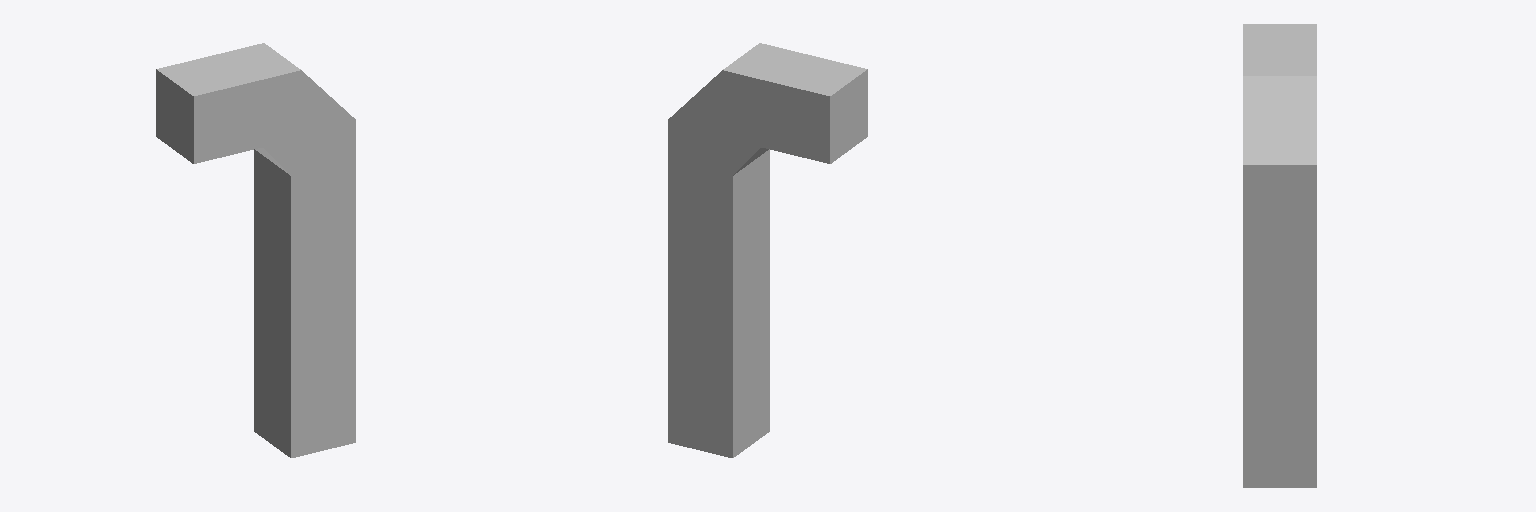
Rendered from roughgatewaLef.obj.
3 views of the same model, side by side, from view 1: azimuth 30°, elevation 25°; view 2: azimuth 150°, elevation 25°; view 3: azimuth 270°, elevation 25° (orthographic).
Visible parts, largest first — view 1: Cube.002; view 2: Cube.002; view 3: Cube.002.
Boxes of the visible parts, x1=… form: Cube.002: x1=156, y1=43, x2=355, y2=457; Cube.002: x1=668, y1=43, x2=867, y2=457; Cube.002: x1=1243, y1=24, x2=1316, y2=487.
Size of the model in its own units: 2.5 by 5.69 by 1.